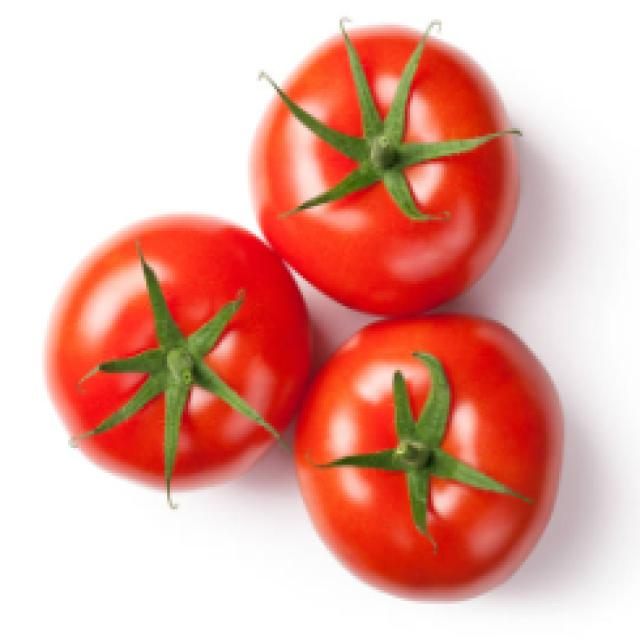Tomato: (244, 13, 544, 311), (281, 307, 565, 601), (54, 225, 318, 495)
